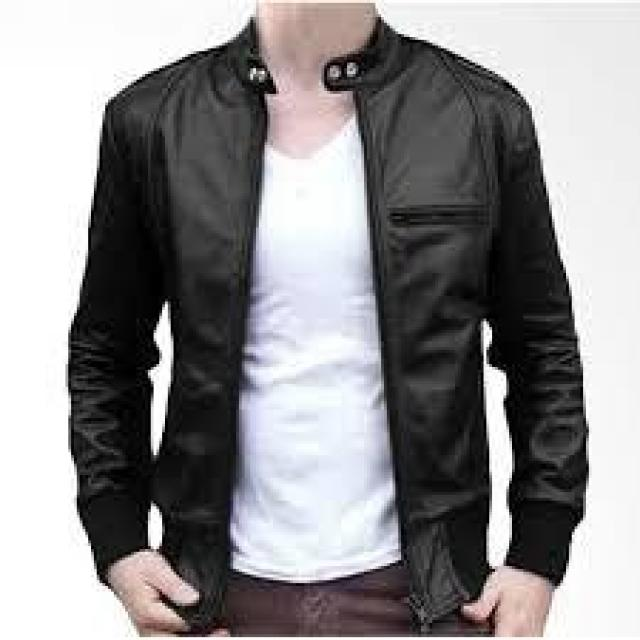jacket: (66, 44, 583, 587)
